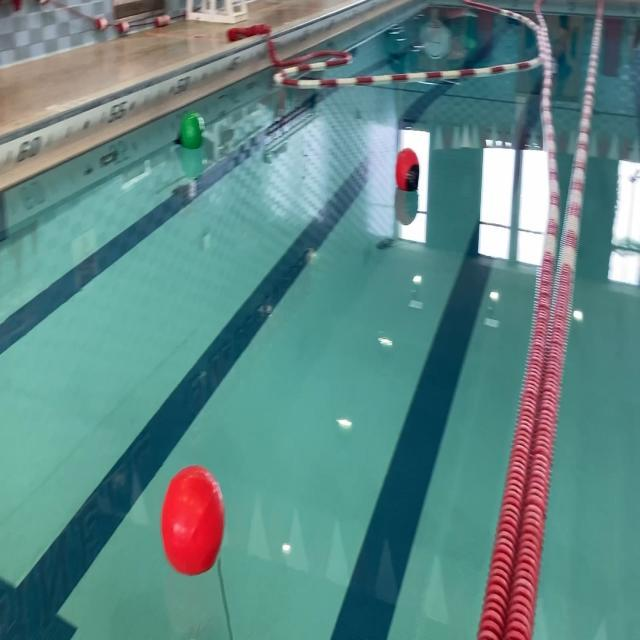buoy: (160, 466, 224, 578), (174, 109, 207, 150), (393, 147, 422, 192)
